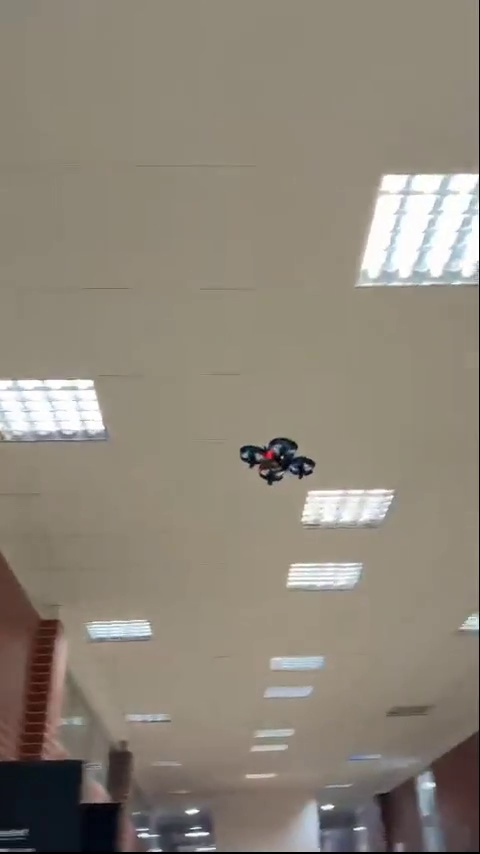drone: (242, 431, 316, 493)
